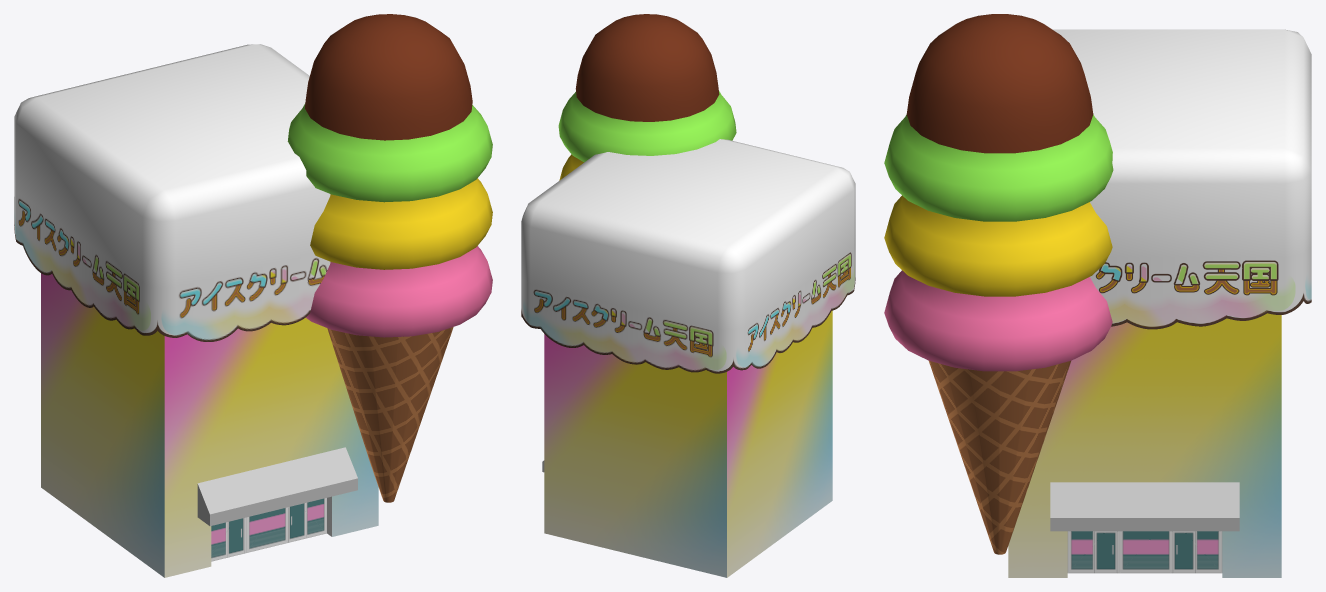
The model's file is Town_Bld_IceCream_A.FBX.
3 renders of one model, left to right at view 1: azimuth 30°, elevation 25°; view 2: azimuth 150°, elevation 25°; view 3: azimuth 270°, elevation 25°, orthographic. The views are drawn at different scales.
Visible parts, largest first — view 1: Town_Bld_IceCream_A; view 2: Town_Bld_IceCream_A; view 3: Town_Bld_IceCream_A.
Boxes of the visible parts, x1,y1,x2,y2 form: Town_Bld_IceCream_A: (14,14,492,577); Town_Bld_IceCream_A: (521,14,855,577); Town_Bld_IceCream_A: (884,14,1311,577).
Bounding box in the file's own units: 1065 × 1542 × 1068.
